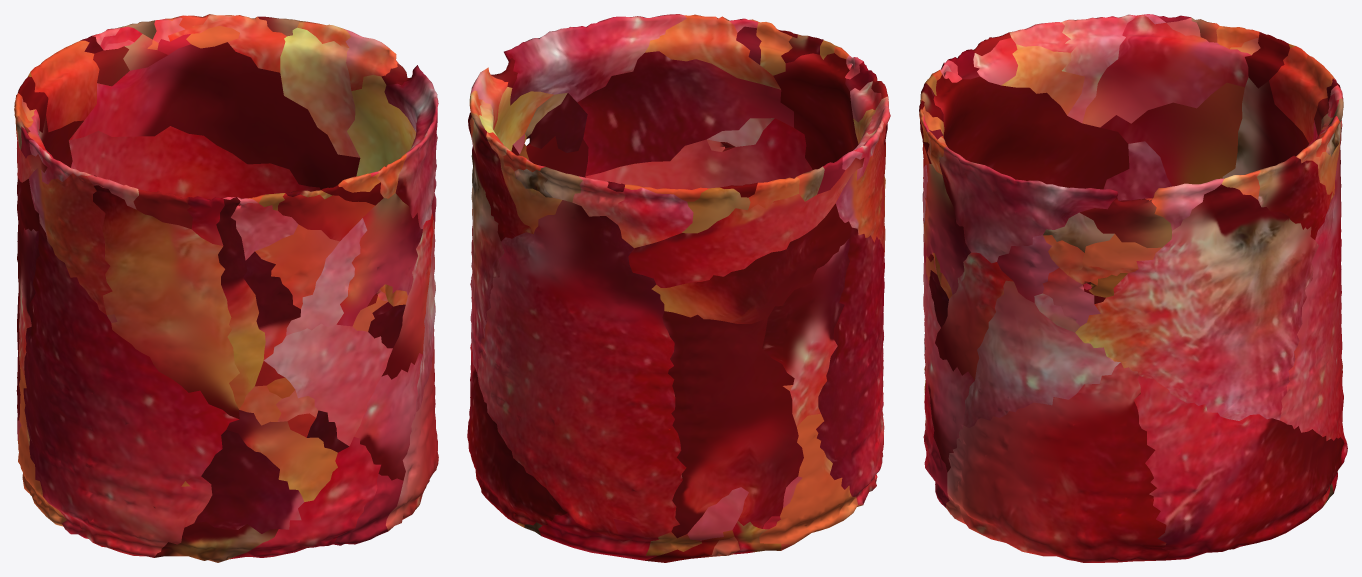
The model's file is 3DModel.obj.
The picture shows the model from 3 angles, left to right: view 1: azimuth 30°, elevation 25°; view 2: azimuth 150°, elevation 25°; view 3: azimuth 270°, elevation 25°; orthographic projection.
Visible parts, largest first — view 1: 3DModel; view 2: 3DModel; view 3: 3DModel.
Part boxes in pixels (x1,y1,x2,y2): 3DModel: (14, 14, 438, 562); 3DModel: (467, 14, 890, 562); 3DModel: (919, 14, 1347, 562).
Bounding box in the file's own units: 0.087 × 0.0876 × 0.0873.
